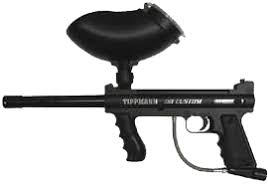Arma Falsa: (2, 2, 264, 187)
